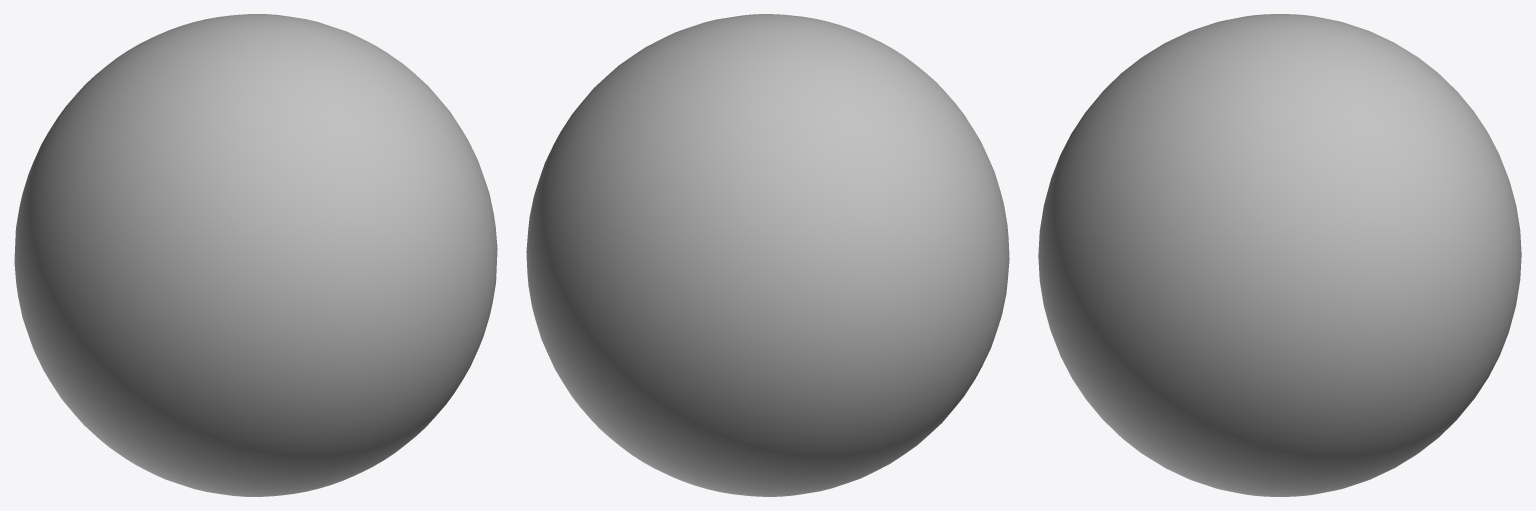
File: pluto.glb
3 renders of one model, left to right at view 1: azimuth 30°, elevation 25°; view 2: azimuth 150°, elevation 25°; view 3: azimuth 270°, elevation 25°, orthographic.
Parts seen in each view (by area): view 1: pluto; view 2: pluto; view 3: pluto.
Part boxes in pixels (bbox=[...]): pluto: bbox=[14, 14, 497, 496]; pluto: bbox=[526, 14, 1009, 496]; pluto: bbox=[1038, 14, 1521, 496].
Size of the model in its own units: 2.04 by 2.04 by 2.04.
Materials: 1 (1 with a texture image).
